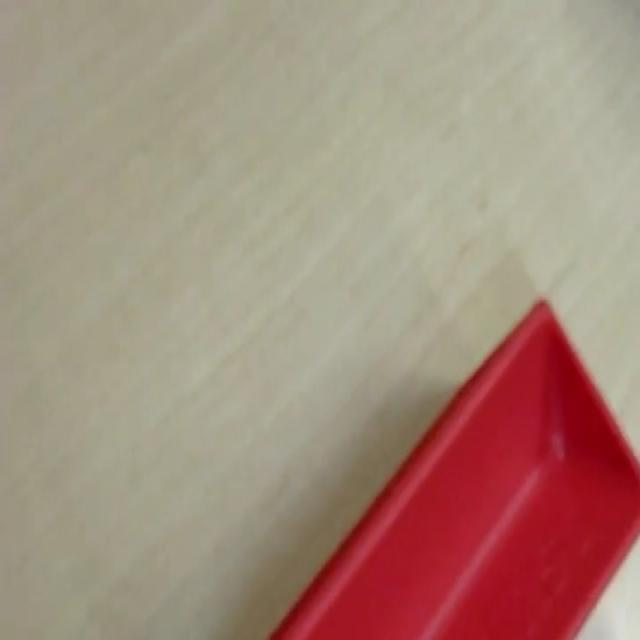red_block: (266, 296, 638, 637)
